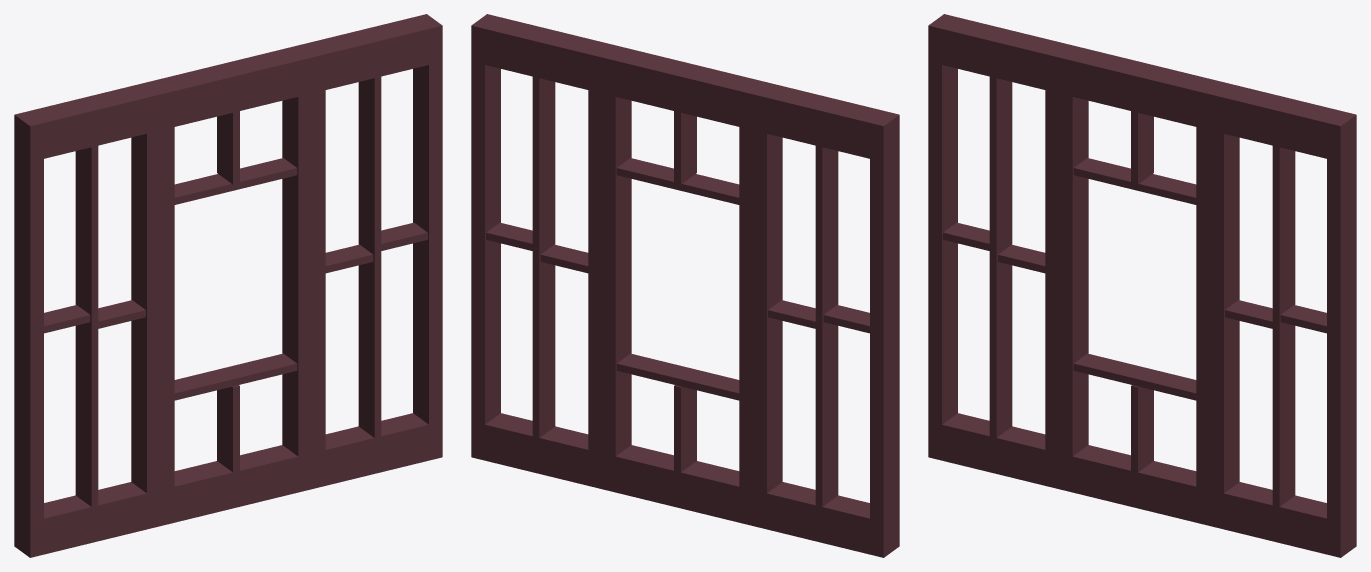
File: house-wall-window-construction-3x3m.fbx
3 views of the same model, side by side, from view 1: azimuth 30°, elevation 25°; view 2: azimuth 150°, elevation 25°; view 3: azimuth 330°, elevation 25° (orthographic).
Parts seen in each view (by area): view 1: house-wall-window-construction-3x3m; view 2: house-wall-window-construction-3x3m; view 3: house-wall-window-construction-3x3m.
Part boxes in pixels (x1=…): house-wall-window-construction-3x3m: x1=14, y1=14, x2=442, y2=557; house-wall-window-construction-3x3m: x1=471, y1=14, x2=899, y2=557; house-wall-window-construction-3x3m: x1=928, y1=14, x2=1356, y2=557.
Size of the model in its own units: 3 by 3 by 0.2.
